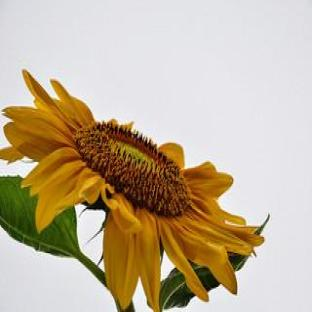sunflower: (0, 69, 269, 312)
